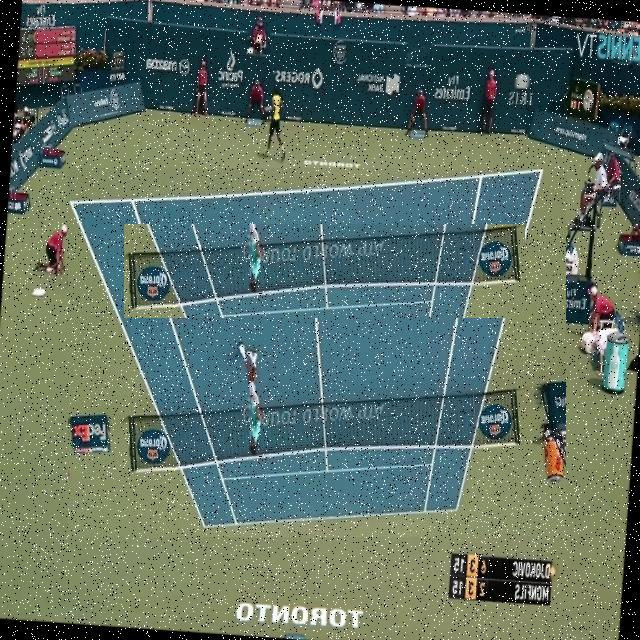court: (69, 168, 566, 537)
net: (124, 224, 525, 318)
player: (238, 246, 266, 364)
